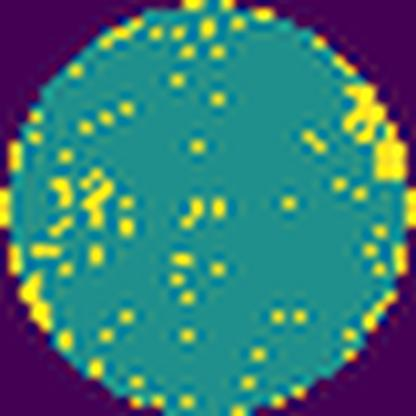Edge-Loc: (341, 76, 411, 187)
